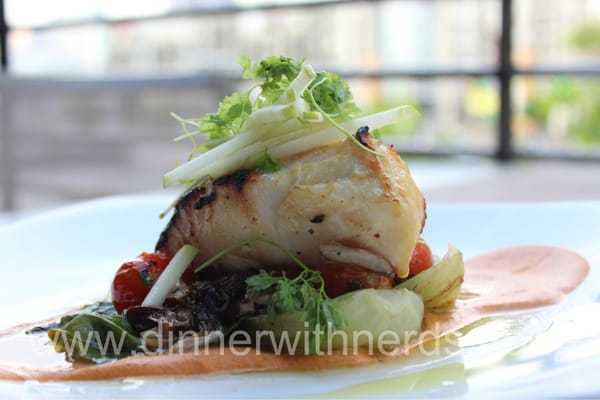soup: (137, 51, 466, 355)
